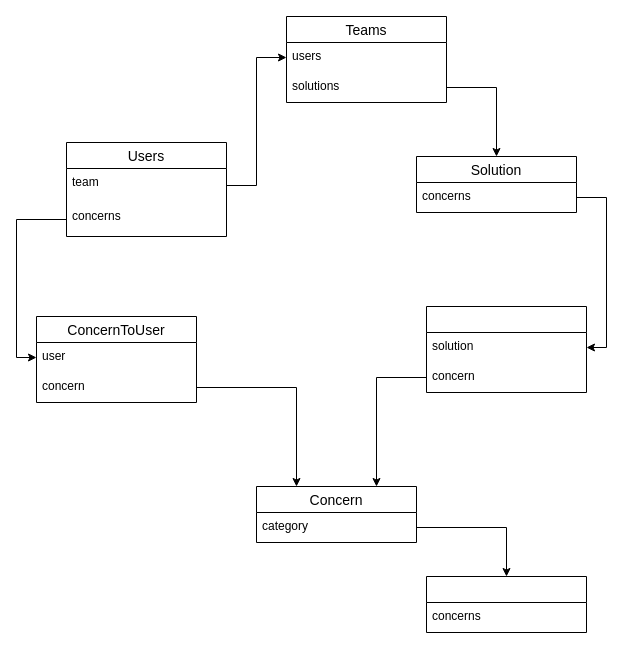
This 623x649 diagram has some shape labels left out. The box of each missing label's shape, as (x1, y1, x2, y2) in pixels:
ConcernCategory: (426, 576, 586, 632)
ConcernToSolution: (426, 306, 586, 392)
